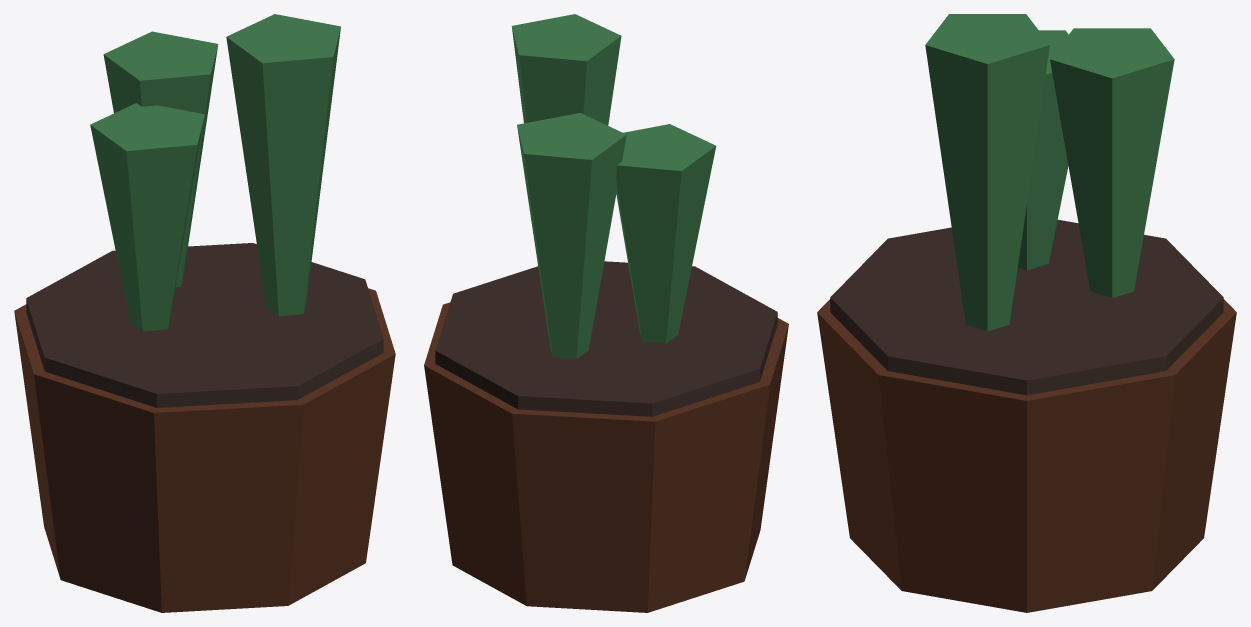
Rendered from plant.obj.
3 views of the same model, side by side, from view 1: azimuth 30°, elevation 25°; view 2: azimuth 150°, elevation 25°; view 3: azimuth 270°, elevation 25° (orthographic). The views are drawn at different scales.
Visible parts, largest first — view 1: plant; view 2: plant; view 3: plant.
Boxes of the visible parts, left/top/right/bottom form: plant: left=14, top=14, right=395, bottom=612; plant: left=424, top=14, right=788, bottom=612; plant: left=817, top=14, right=1236, bottom=612.
Bounding box in the file's own units: 0.64 × 0.9 × 0.64.
